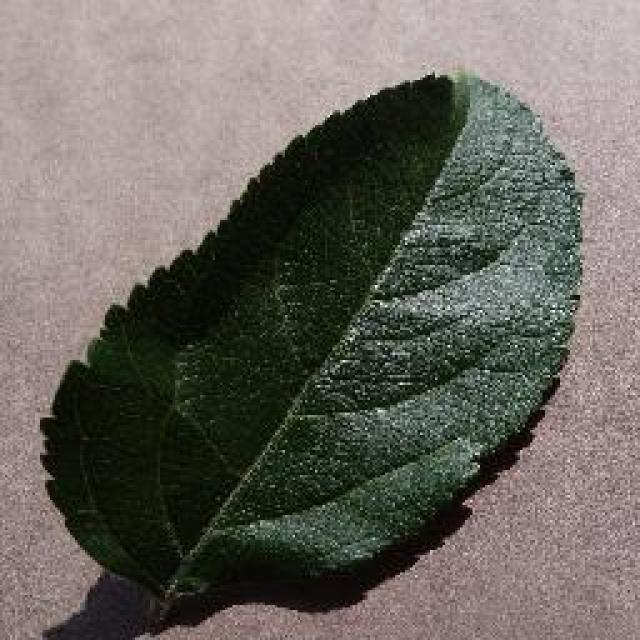apple healthy: (35, 65, 585, 617)
